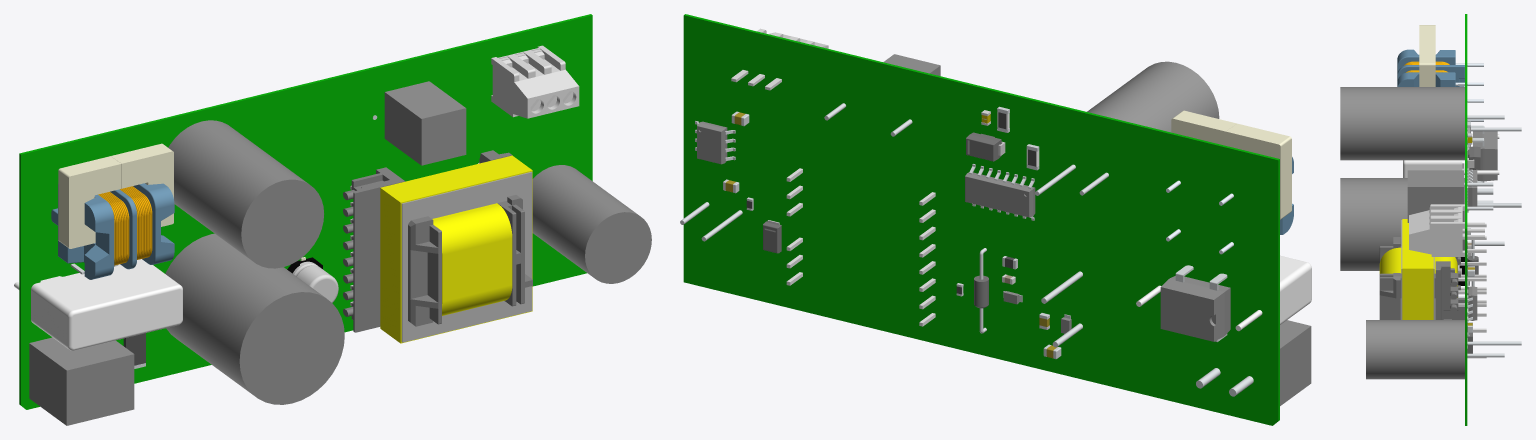
Rendered from PCB1.glb.
3 renders of one model, left to right at view 1: azimuth 30°, elevation 25°; view 2: azimuth 150°, elevation 25°; view 3: azimuth 270°, elevation 25°, orthographic. The views are drawn at different scales.
Visible parts, largest first — view 1: Open CASCADE STEP translator 7.5 1.1.1, SimpleBody (×3), T1, Body (×2), FL1, C1, EE20-10-6-EF20-5443, 150-1170_6A (×2), J2, WSIZE CODE C-001; view 2: Open CASCADE STEP translator 7.5 1.1.1, Body (×5), SimpleBody, FL1, C1, T1, D1, J2, D3; view 3: SimpleBody (×3), T1, Body (×4), FL1, J2, Open CASCADE STEP translator 7.5 1.1.1, C1, Pin1 (×3), EE20-10-6-EF20-5443, Pin2 (×2), D1, 150-1170_6A (+1 smaller).
Boxes of the visible parts, box(x1,y1,x2,y2) form: Open CASCADE STEP translator 7.5 1.1.1: box(19, 14, 592, 409); SimpleBody (×3): box(165, 120, 651, 404); T1: box(343, 150, 532, 343); Body (×2): box(29, 81, 466, 425); FL1: box(51, 143, 174, 279); C1: box(14, 259, 182, 350); EE20-10-6-EF20-5443: box(432, 203, 512, 315); 150-1170_6A (×2): box(401, 172, 532, 342); J2: box(491, 45, 579, 118); WSIZE CODE C-001: box(292, 261, 338, 302); Open CASCADE STEP translator 7.5 1.1.1: box(683, 14, 1279, 425); Body (×5): box(697, 54, 1311, 405); SimpleBody: box(1087, 61, 1219, 132); FL1: box(1166, 110, 1293, 254); C1: box(1136, 255, 1311, 331); T1: box(786, 168, 935, 326); D1: box(966, 132, 1005, 161); J2: box(731, 28, 828, 90); D3: box(763, 220, 781, 253); SimpleBody (×3): box(1340, 87, 1464, 379); T1: box(1379, 219, 1486, 358); Body (×4): box(1407, 131, 1497, 320); FL1: box(1397, 25, 1483, 121); J2: box(1409, 204, 1484, 256); Open CASCADE STEP translator 7.5 1.1.1: box(1465, 14, 1467, 425); C1: box(1403, 134, 1499, 177); Pin1 (×3): box(1467, 127, 1521, 345); EE20-10-6-EF20-5443: box(1379, 247, 1457, 297); Pin2 (×2): box(1467, 115, 1504, 357); D1: box(1467, 146, 1480, 169); 150-1170_6A: box(1401, 244, 1434, 319).
Bounding box in the file's own units: 0.0897 × 0.0385 × 0.032.
